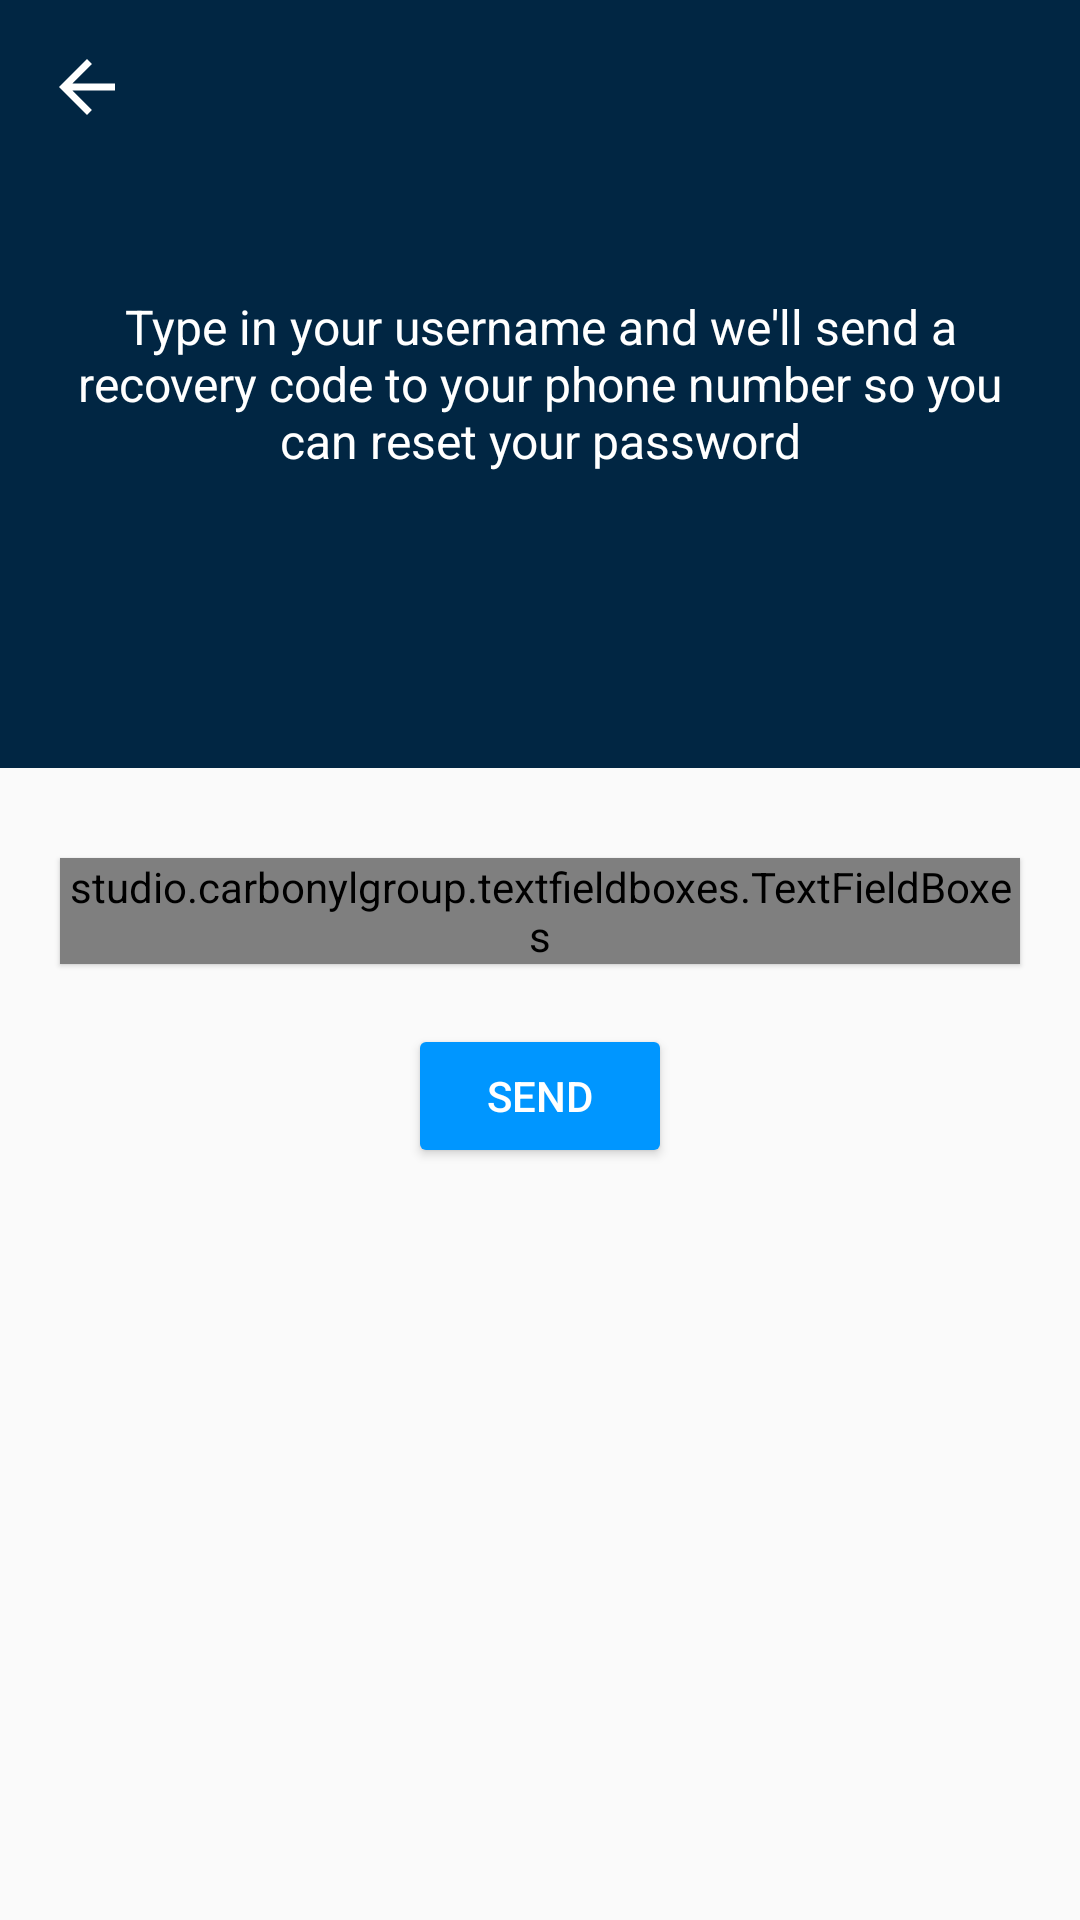

Screen size 1080x1920. Icon name, then its center in pixels as [x,y]:
back: [87,87]
